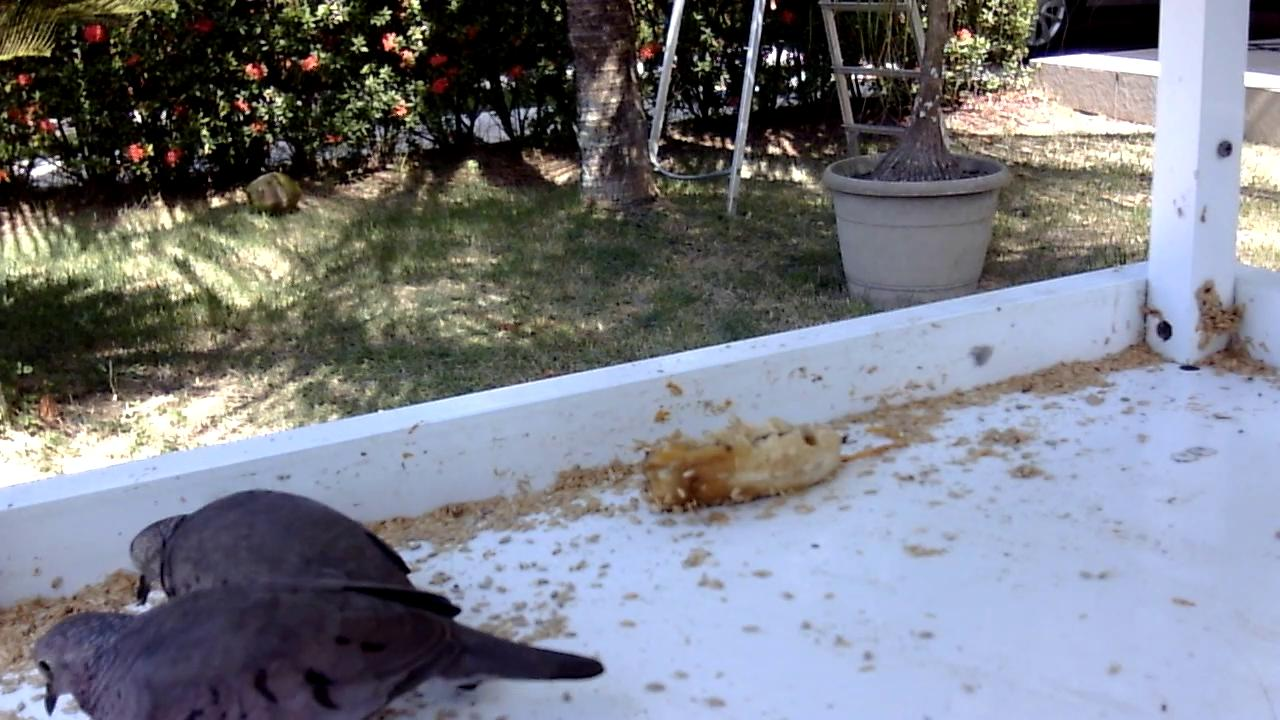rolinha: (31, 579, 607, 720), (128, 487, 414, 616)
